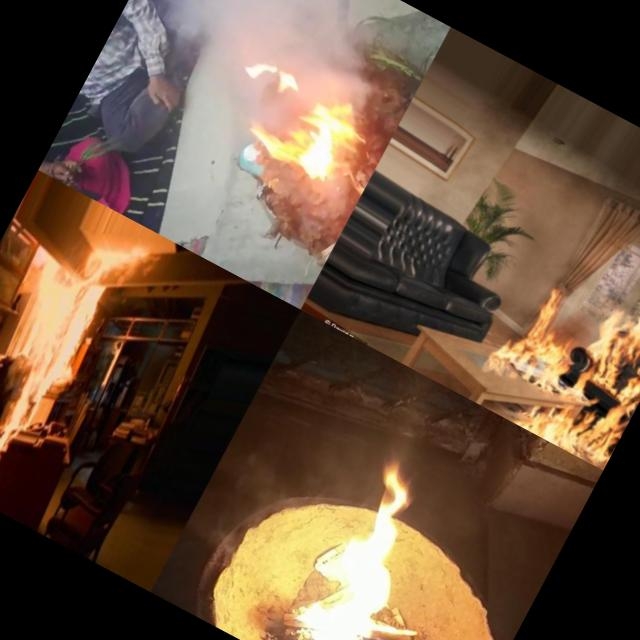fire: (476, 185, 640, 470), (0, 206, 151, 484), (273, 439, 449, 640), (68, 124, 177, 226)
smoke: (146, 0, 429, 302)
